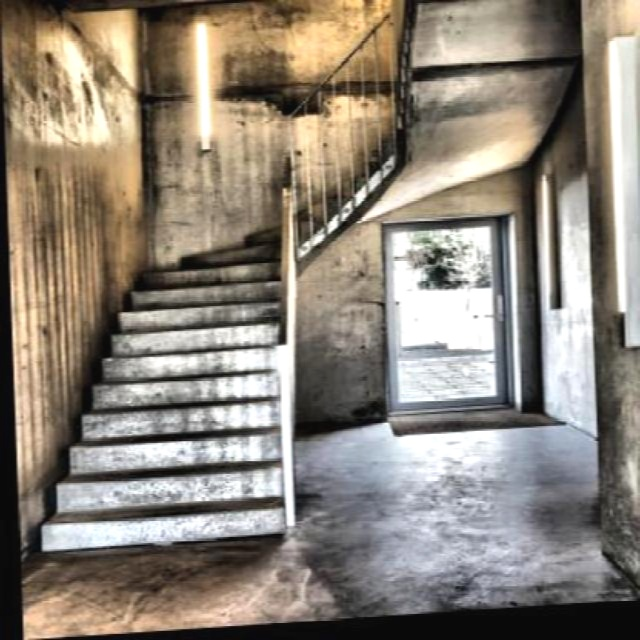stair: (25, 186, 297, 551)
